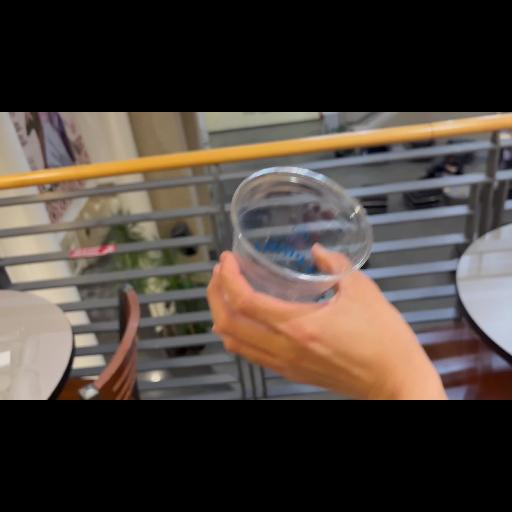lp_plastic_cup: (230, 169, 372, 301)
